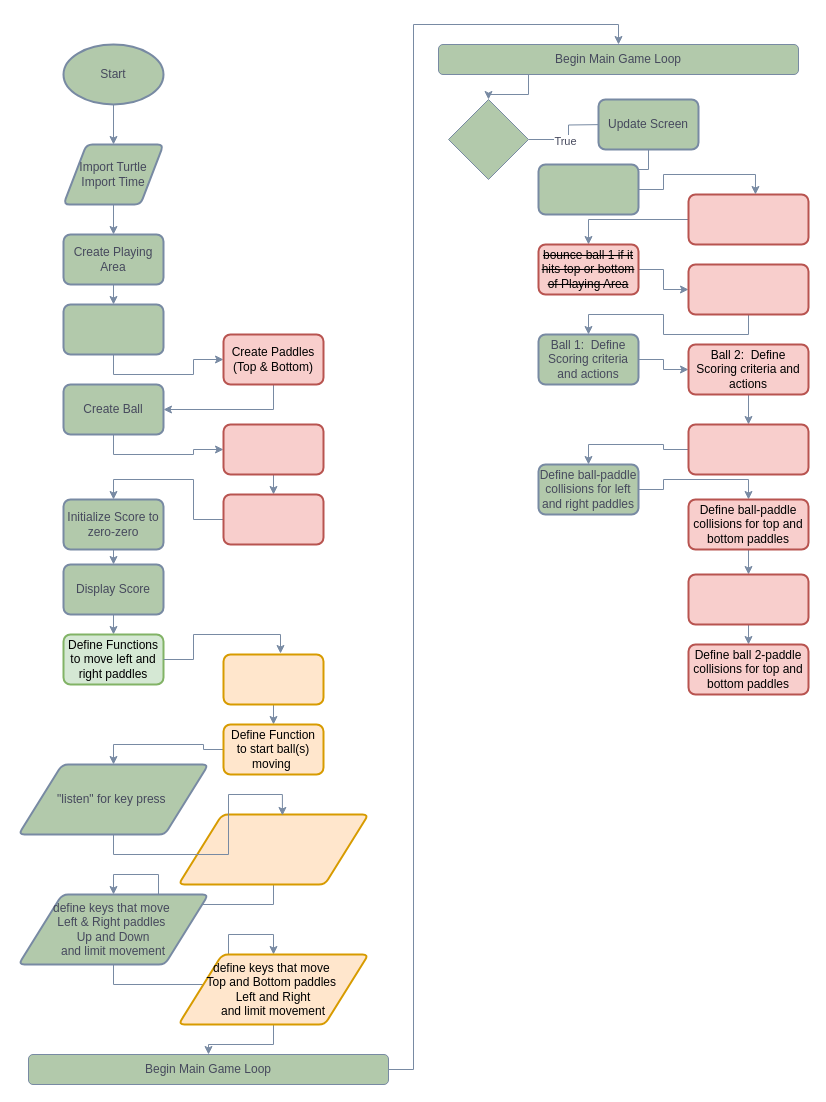
This 826x1102 diagram has some shape labels left out. The shapes that lost their labels are listed below. From the top down, each one's centre as x and y in pixels, then its label:
the point at 488,139: While
the point at 588,189: Move Ball 1
the point at 748,219: Move Ball 2
the point at 748,289: bounce ball 2 if it hits top or bottom of Playing Area
the point at 113,329: Create Paddles (Left & Right)
the point at 273,449: Create Ball 2
the point at 748,449: Modify to allow scoring if ball hits top or bottom
the point at 273,519: Set Ball 1&2 speed to zero at start of game
the point at 748,599: Define ball 2-paddle collisions for left and right paddles
the point at 273,679: Define Functions to move top and bottom paddles
the point at 273,849: define keypress to start play
